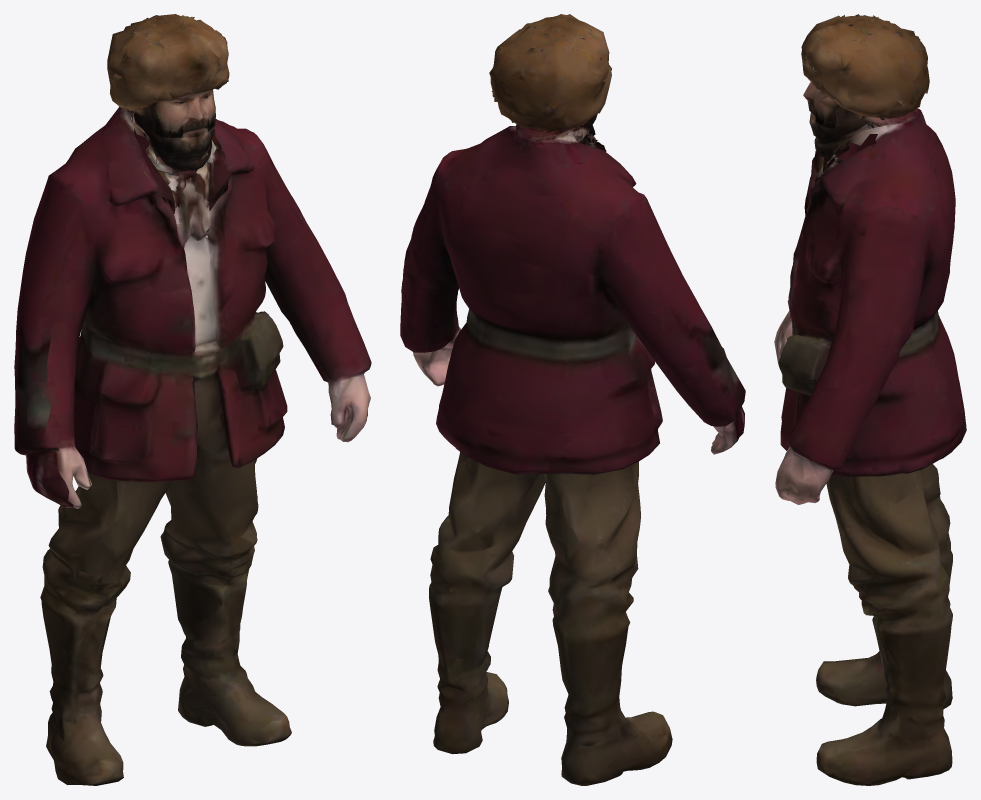
File: trader.phone.glb
3 renders of one model, left to right at view 1: azimuth 30°, elevation 25°; view 2: azimuth 150°, elevation 25°; view 3: azimuth 270°, elevation 25°, orthographic. The views are drawn at different scales.
Parts seen in each view (by area): view 1: trader.phone.raw; view 2: trader.phone.raw; view 3: trader.phone.raw.
Part boxes in pixels (x1,y1,x2,y2): trader.phone.raw: [14, 14, 371, 785]; trader.phone.raw: [400, 14, 745, 785]; trader.phone.raw: [774, 14, 966, 785].
Bounding box in the file's own units: 0.8869 × 1.8 × 0.4384.
Materials: 1 (1 with a texture image).
